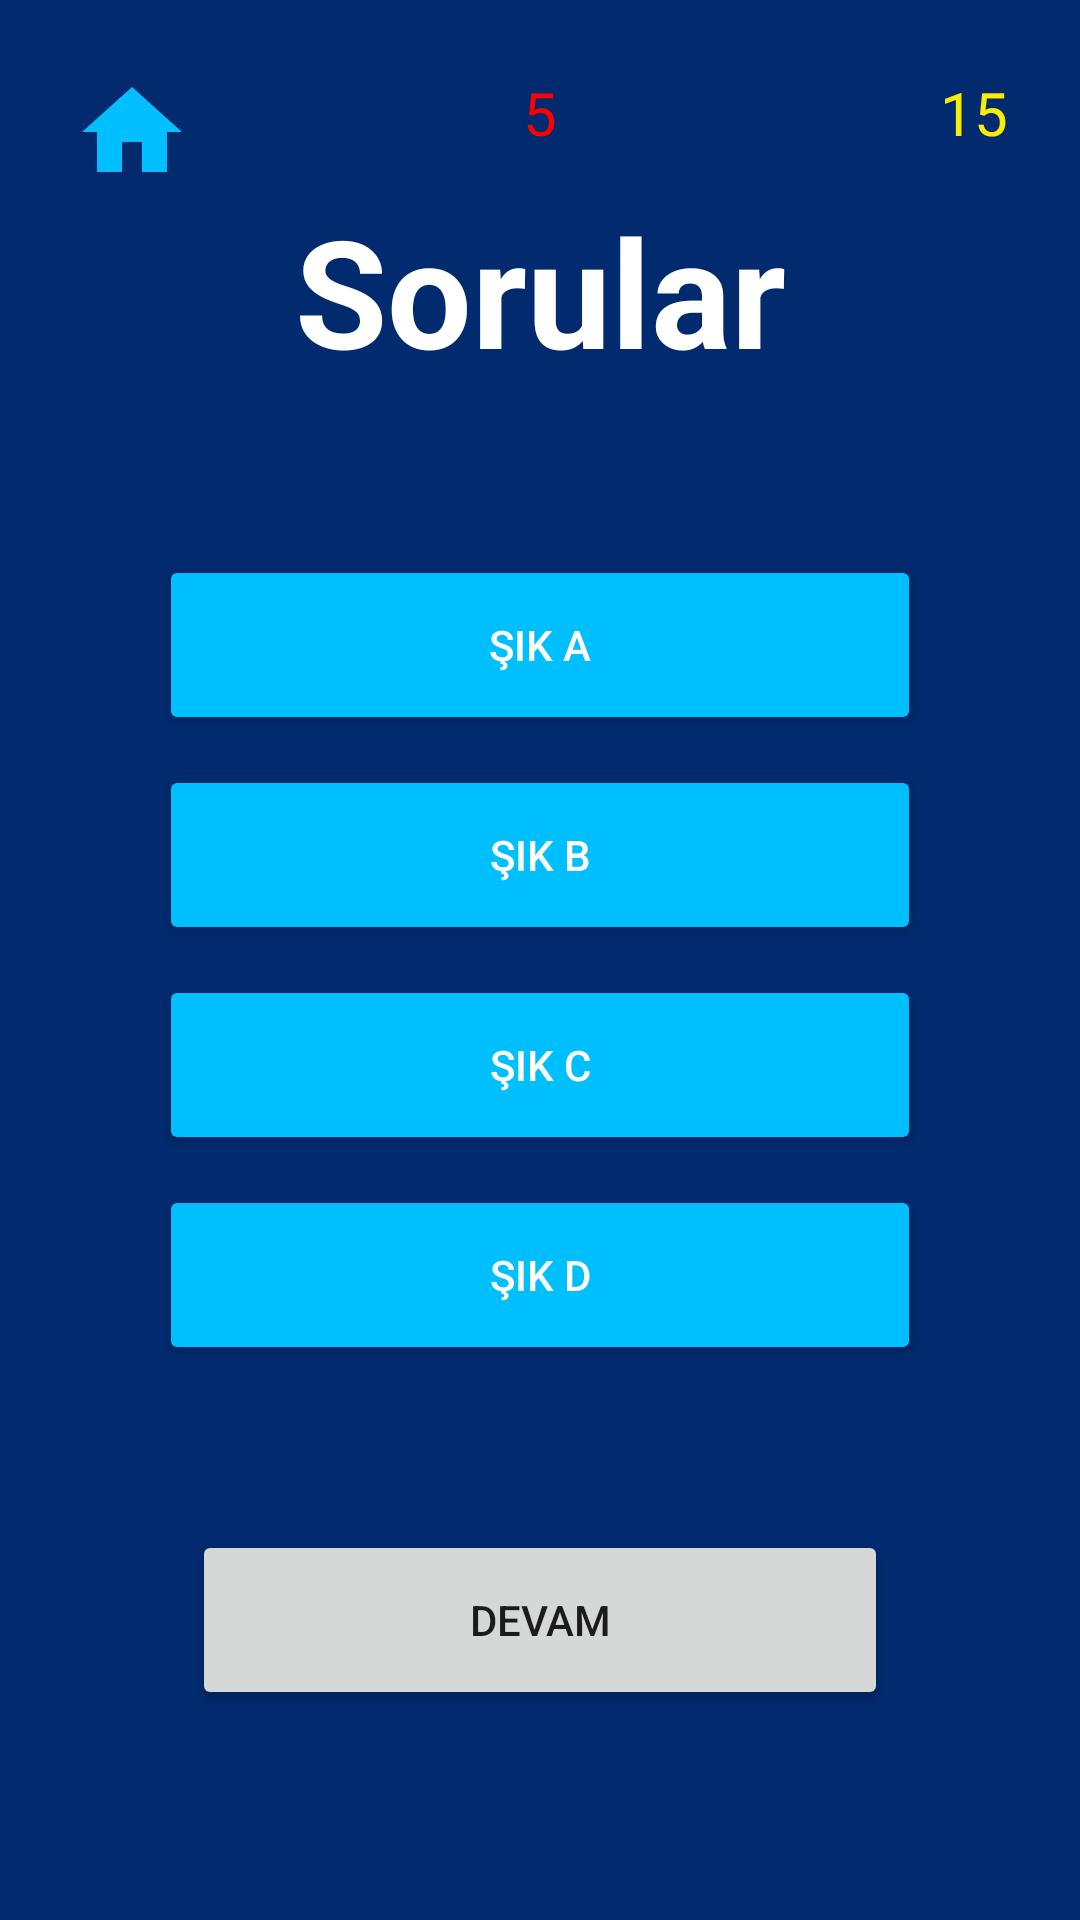

Locate icon controls on the screen. Image size 1080px x 1920px, boxes as (x1, y1, x2, y2).
anasayfa: (82, 87, 182, 172)
